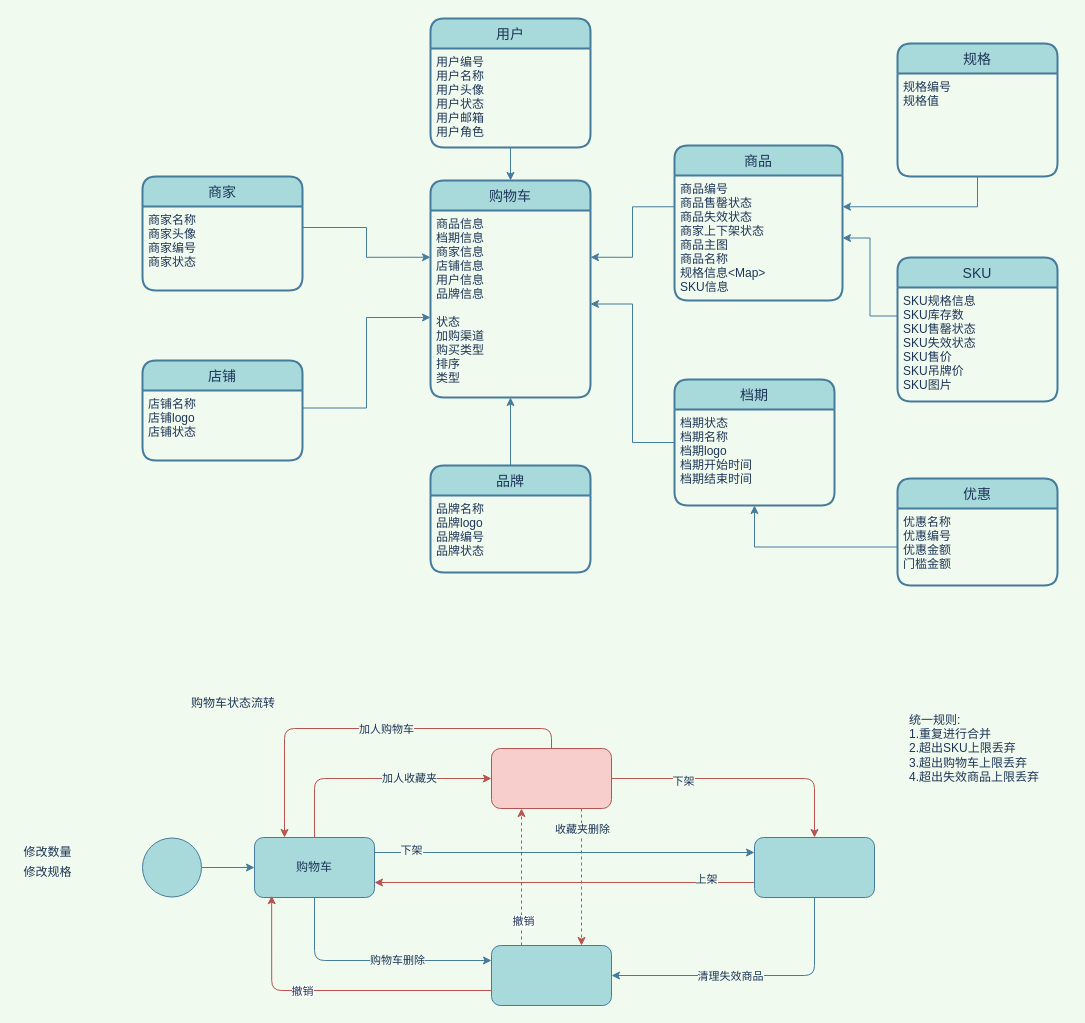
Some shapes in this 1085 by 1023 pixel diagram are drawn without their labels. Here are the shapes that lost their labels. From the top down, the centre of each, then its label:
At (x=551, y=778): "收藏夹".
At (x=172, y=867): "加购".
At (x=814, y=867): "失效".
At (x=551, y=975): "回收站".
